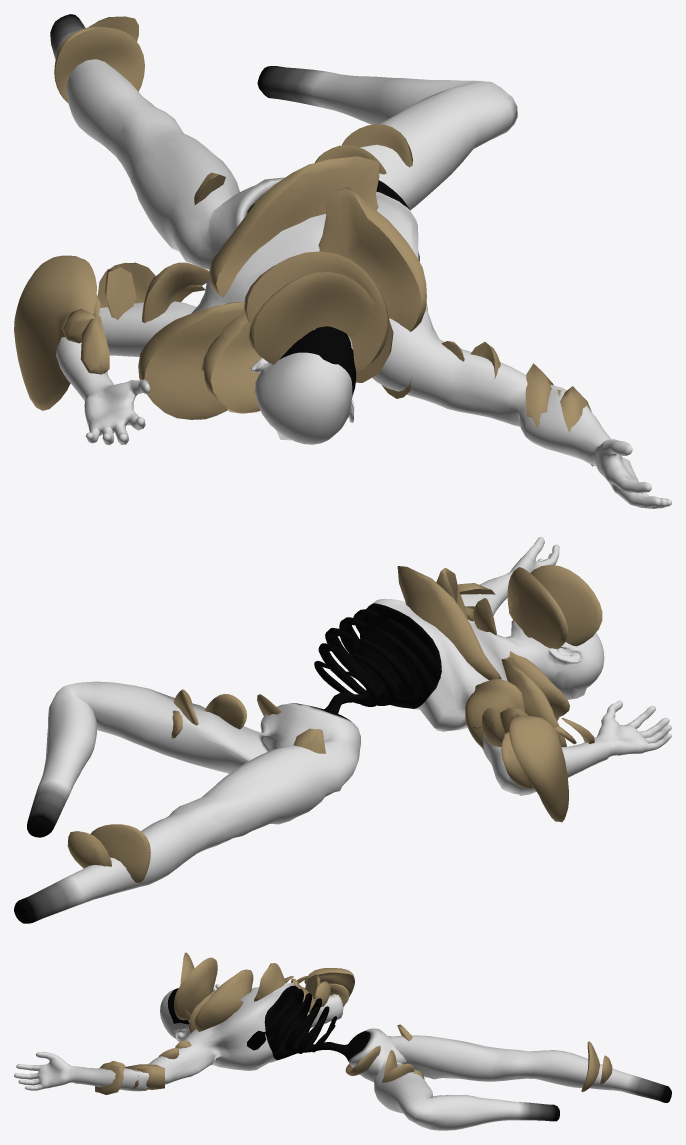
The model's file is Model_DeadEnnemy02.fbx.
3 views of the same model, one above another, from view 1: azimuth 30°, elevation 25°; view 2: azimuth 150°, elevation 25°; view 3: azimuth 270°, elevation 25° (orthographic). The views are drawn at different scales.
Visible parts, largest first — view 1: BodyDead03, MushDead03; view 2: BodyDead03, MushDead03; view 3: BodyDead03, MushDead03.
Boxes of the visible parts, left/top/right/bottom form: BodyDead03: left=50, top=14, right=671, bottom=508; MushDead03: left=14, top=16, right=593, bottom=466; BodyDead03: left=14, top=537, right=671, bottom=923; MushDead03: left=67, top=564, right=602, bottom=882; BodyDead03: left=14, top=983, right=671, bottom=1130; MushDead03: left=95, top=952, right=612, bottom=1094.
Bounding box in the file's own units: 193 × 68.56 × 351.
